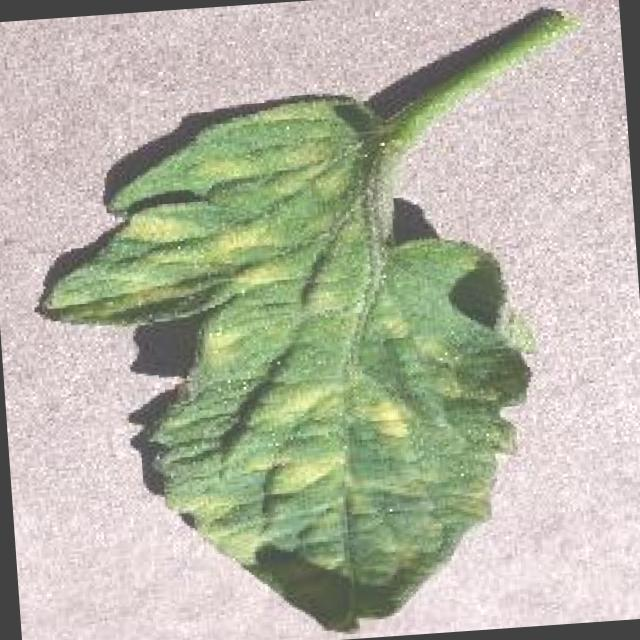leaf mold: (41, 11, 567, 634)
